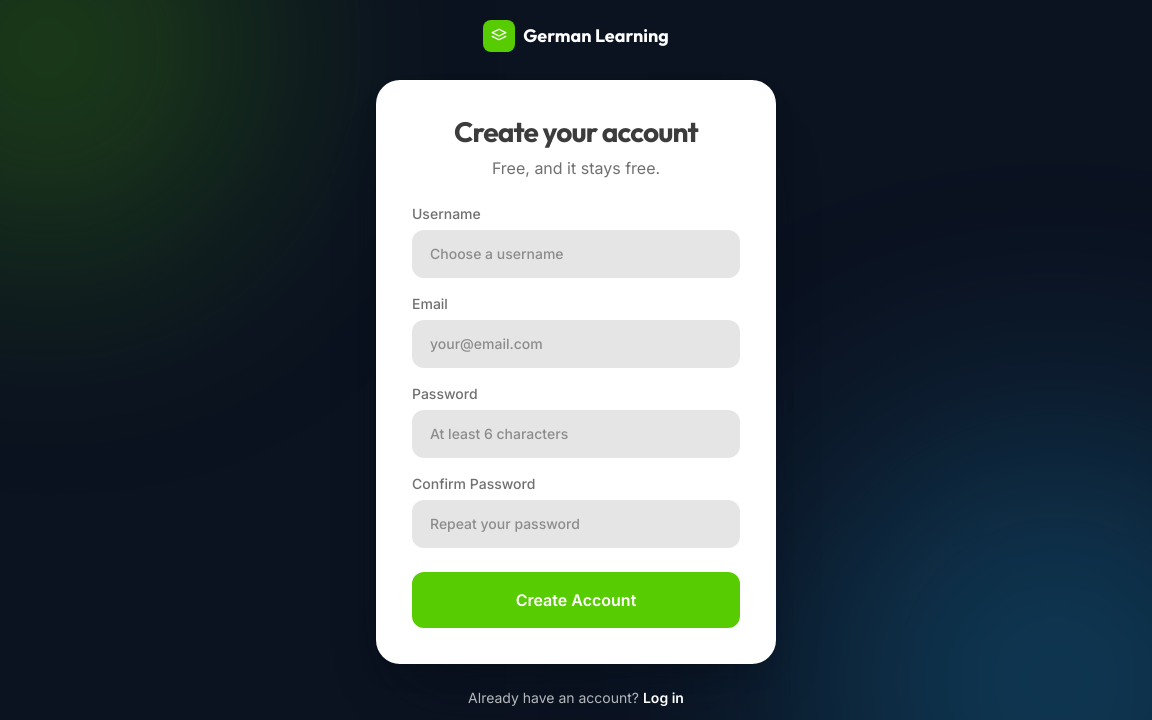
Test: RegisterPage › refuses a password shorter than six characters
In the field labelled "Username": (576,254) [412, 230, 740, 278], type "anna"
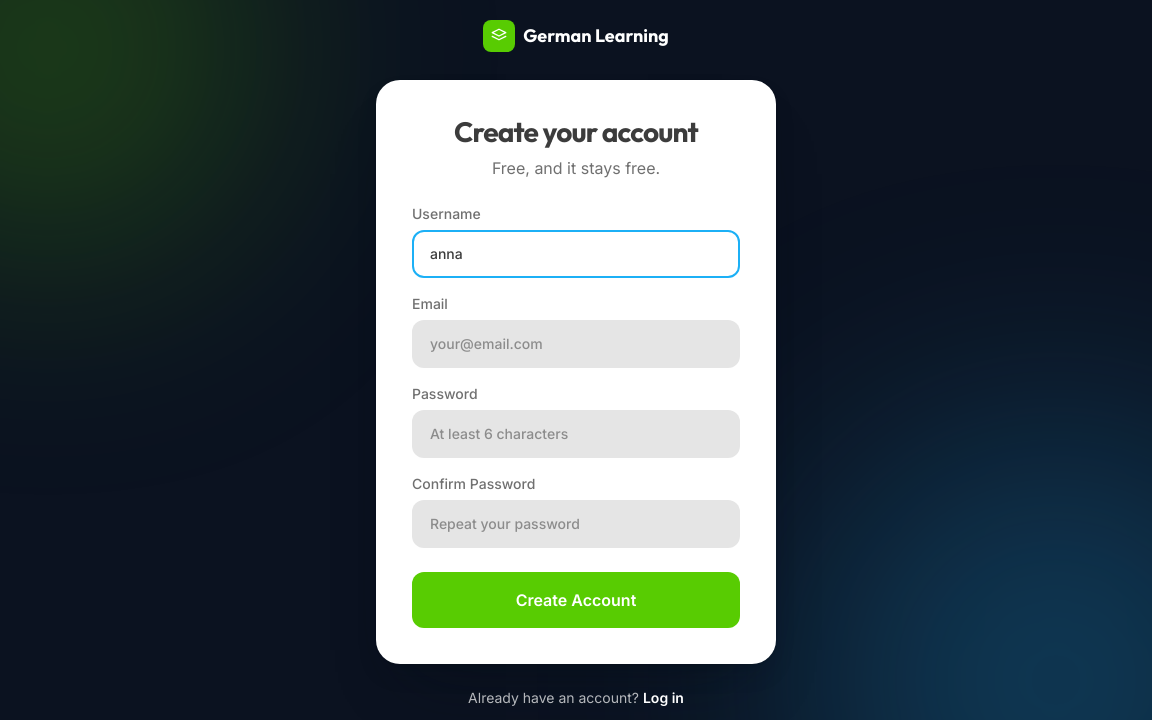
In the field labelled "Email": (576,344) [412, 320, 740, 368], type "anna@example.com"
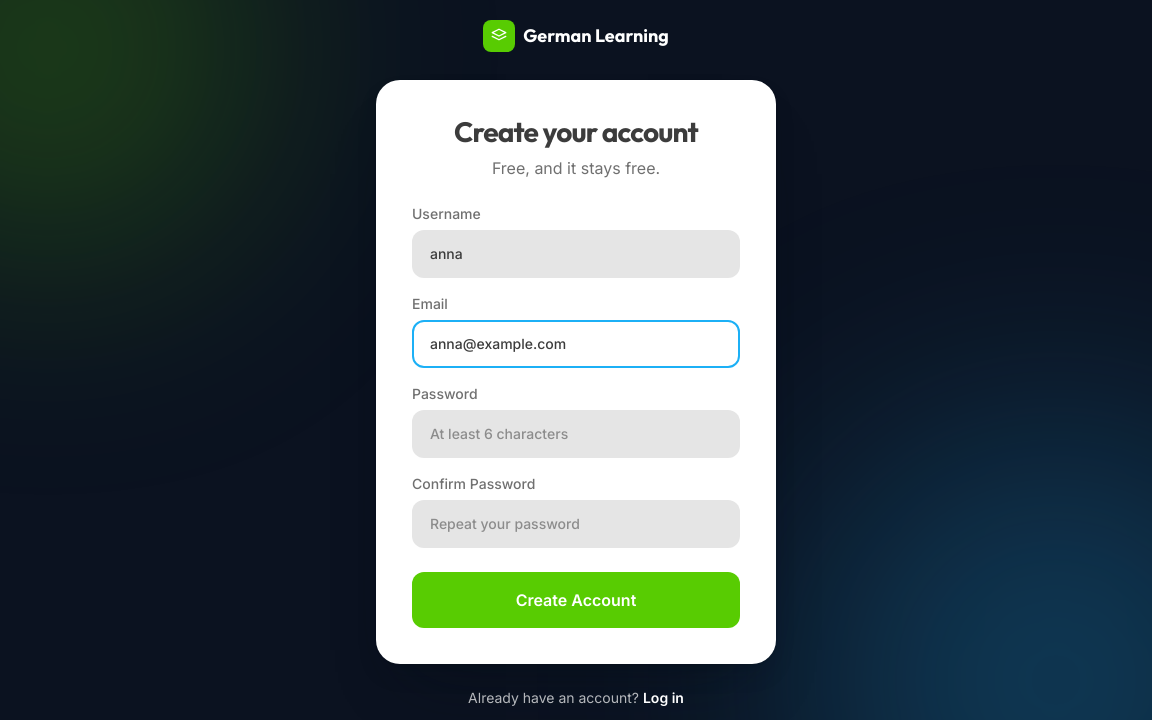
In the password field labelled "Password": (576,434) [412, 410, 740, 458], type "12345"
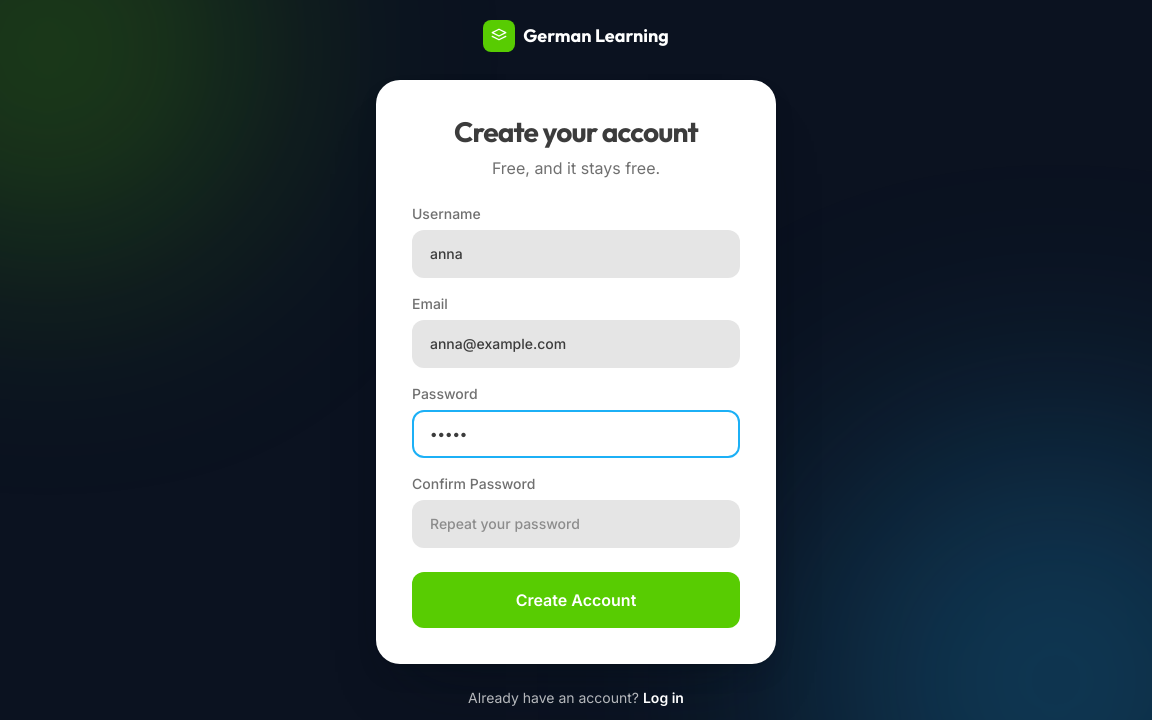
In the password field labelled "Confirm Password": (576,524) [412, 500, 740, 548], type "12345"
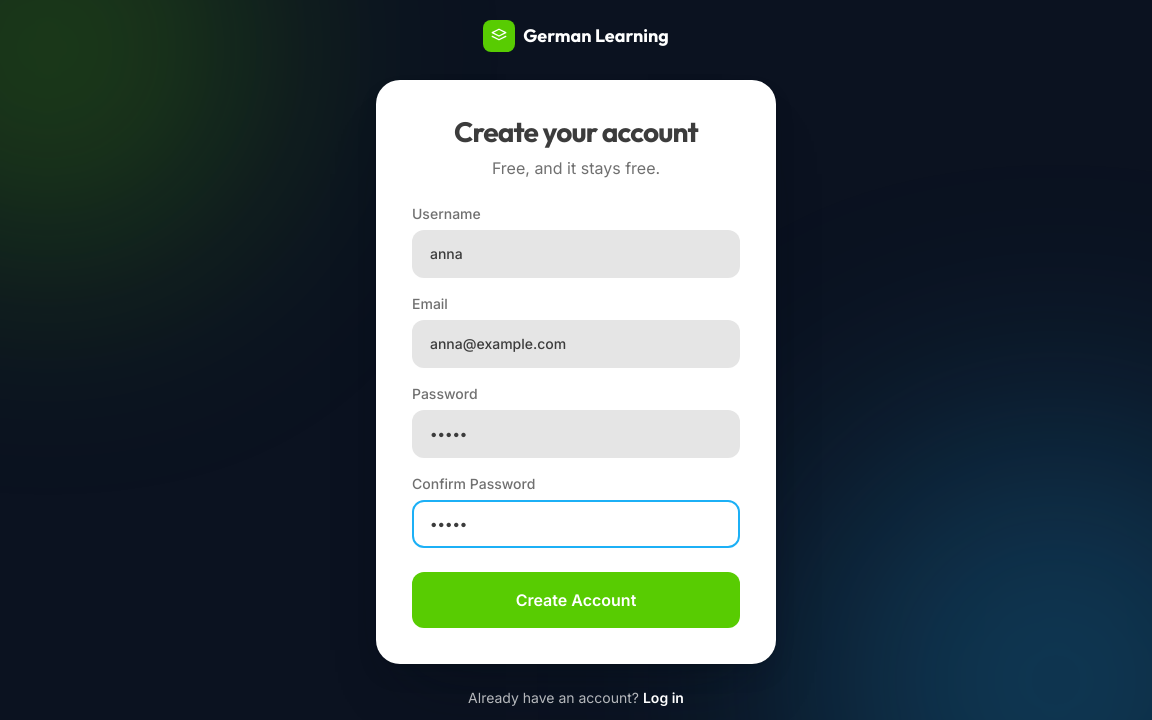
Click the button "Create Account": (576,600) [412, 572, 740, 628]
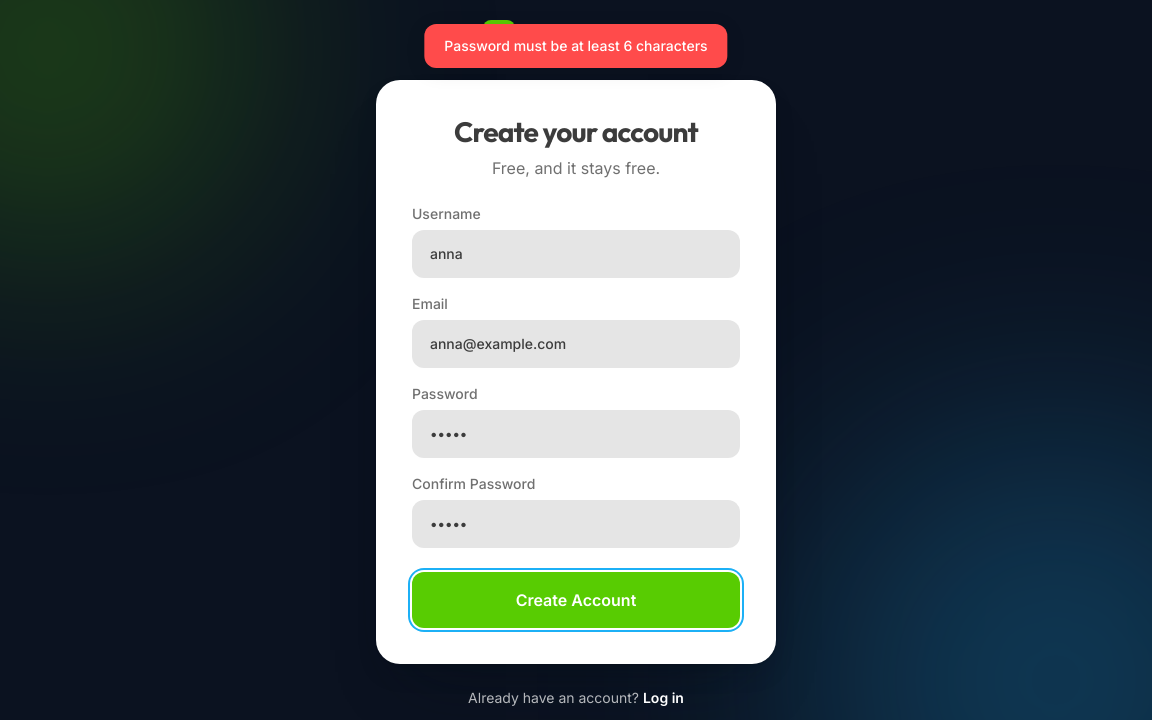
Expected: the message reads "Password must be at least 6 characters", [444, 37, 708, 54]
